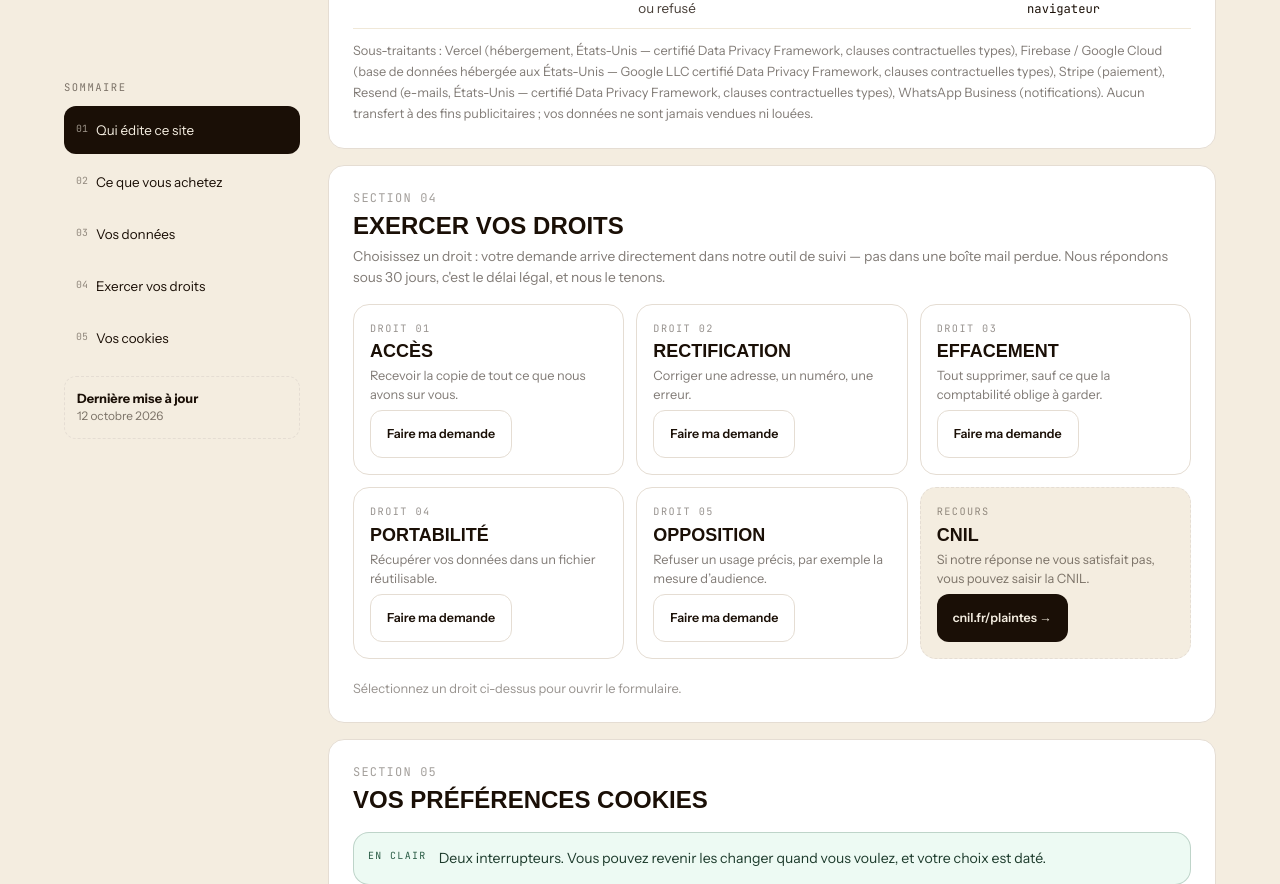
Test: LegalSections — page légale cp-v6 › les 5 droits ouvrent le formulaire BO (mailto en secours) + recours CNIL
(page scrolled)
Check: the button "Envoyer ma demande" is not shown
Step 1. Click the button "Faire ma demande" below "Accès" → {"x": 441, "y": 434}, box [370, 410, 512, 458]
(page scrolled)
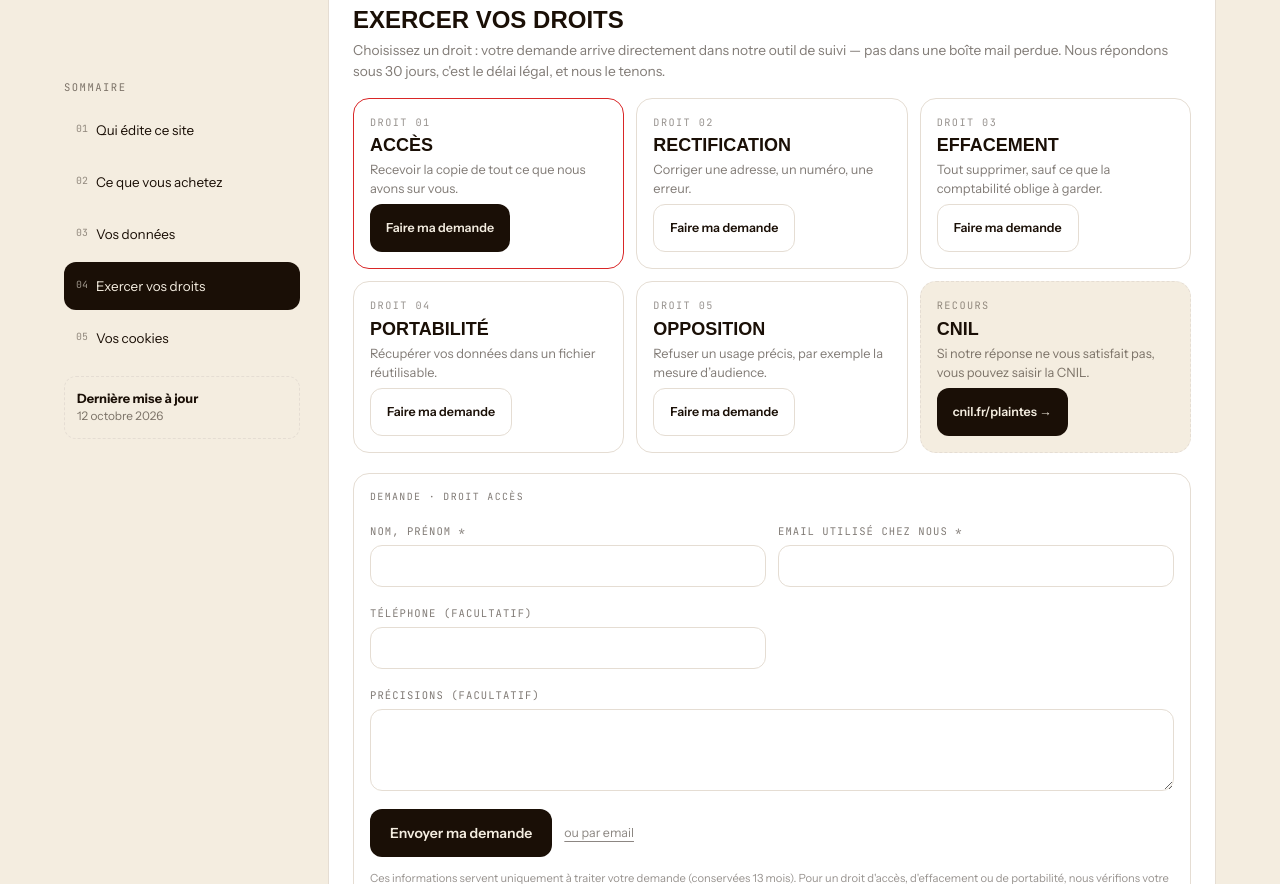
Check: the button "Envoyer ma demande" is shown, box [370, 809, 552, 857]
Check: the field labelled "Email utilisé chez nous *" is shown, box [778, 545, 1174, 587]
Check: the link "ou par email" is shown, box [564, 824, 634, 842]
